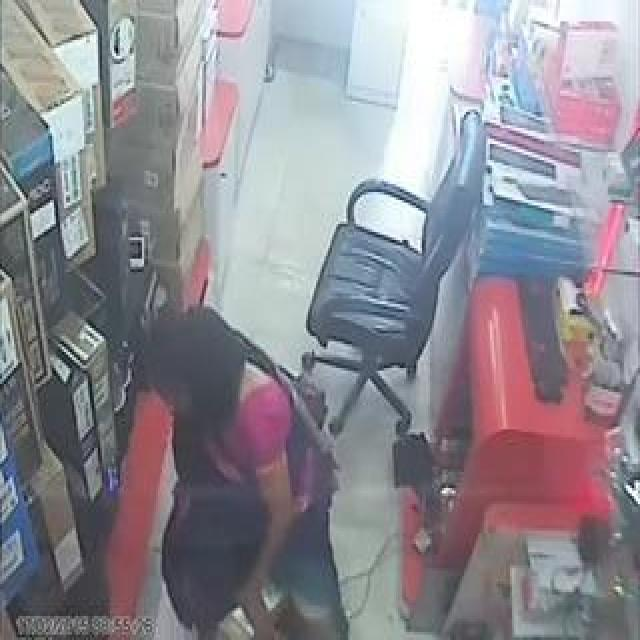Shoplifting: (136, 281, 351, 640)
